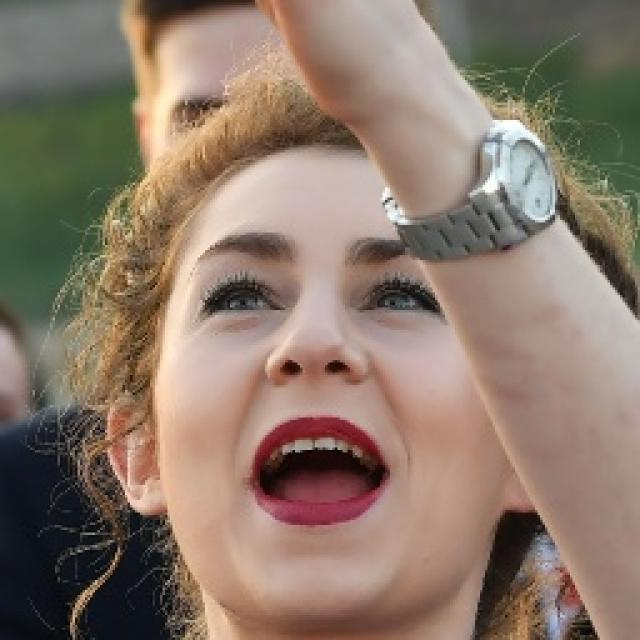earlobe: (105, 393, 169, 518)
